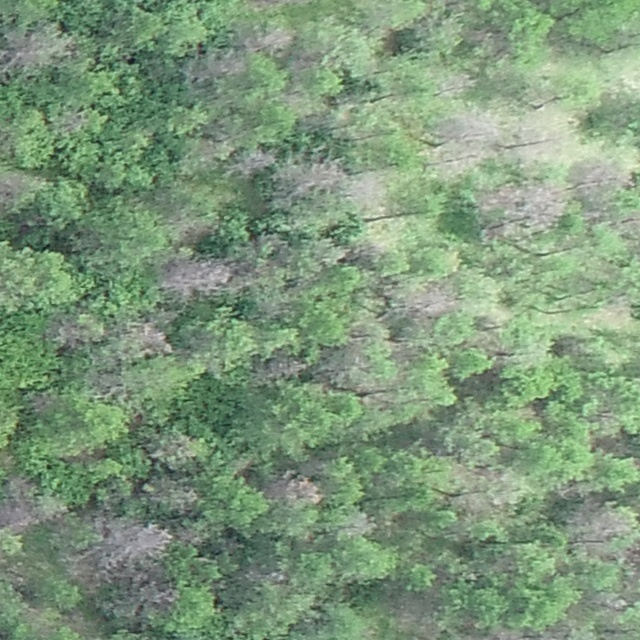unhealthy: (79, 517, 173, 583), (431, 108, 501, 176), (2, 24, 72, 76), (161, 254, 233, 301), (276, 158, 347, 202), (572, 504, 635, 544), (521, 110, 578, 153), (516, 181, 567, 227), (401, 281, 459, 318), (267, 472, 325, 506), (184, 52, 247, 83), (149, 479, 201, 515), (574, 160, 629, 191), (226, 148, 277, 179), (131, 578, 179, 610), (131, 320, 173, 356), (49, 314, 91, 349), (346, 170, 385, 206), (247, 27, 296, 55), (0, 500, 38, 534), (478, 184, 518, 215), (172, 216, 216, 244), (592, 297, 631, 327), (262, 356, 305, 380), (437, 71, 474, 97), (342, 512, 376, 539), (0, 169, 22, 210), (6, 474, 36, 498)
